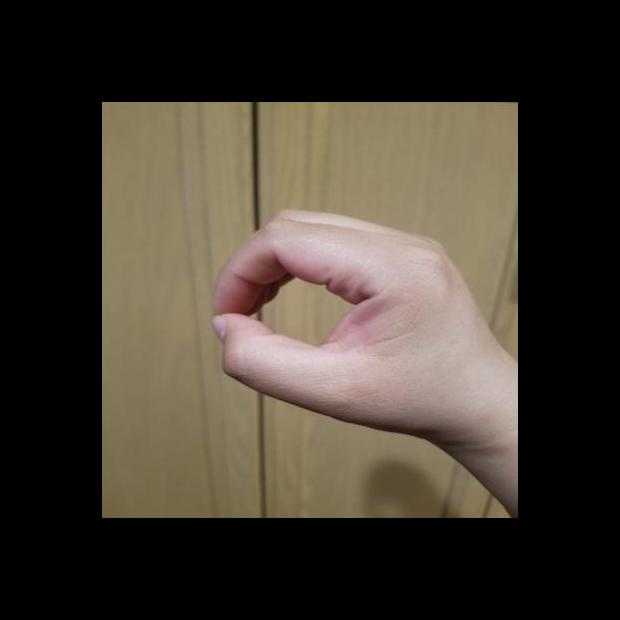N: (205, 204, 506, 441)
